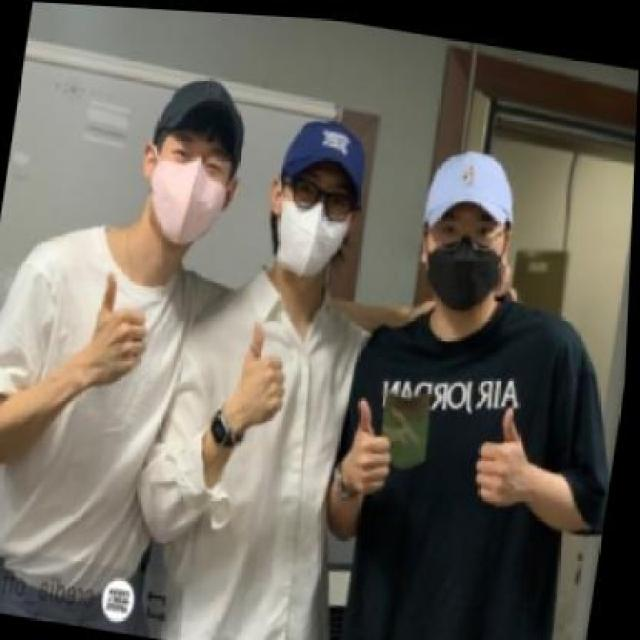hat: (421, 132, 524, 235), (154, 58, 258, 154), (276, 109, 372, 208)
